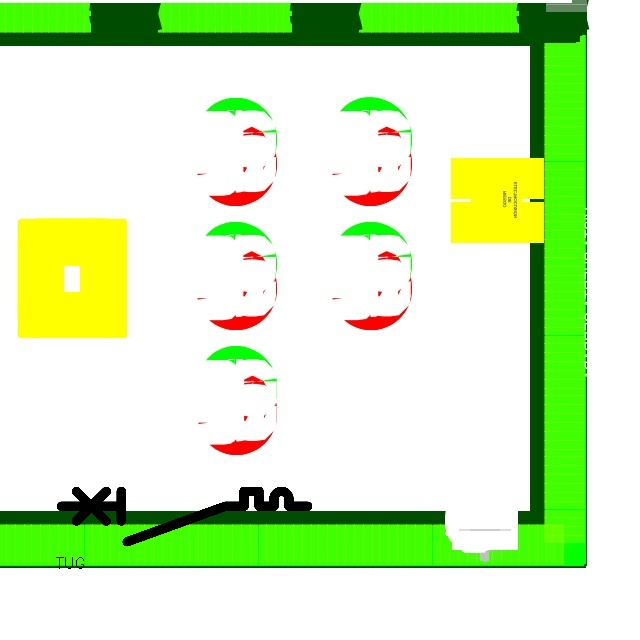interruptor_termomagnetico: (55, 485, 314, 548)
